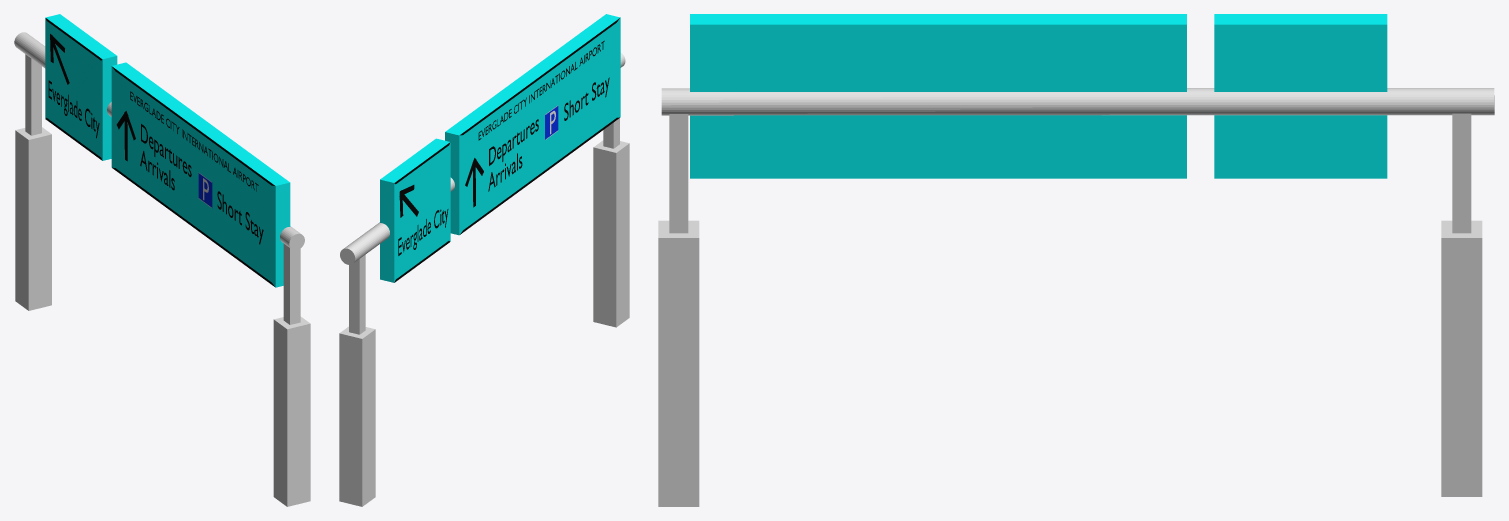
Rendered from ECIA_sign_7.fbx.
The picture shows the model from 3 angles, left to right: view 1: azimuth 30°, elevation 25°; view 2: azimuth 150°, elevation 25°; view 3: azimuth 270°, elevation 25°; orthographic projection. The views are drawn at different scales.
Visible parts, largest first — view 1: Cube.001, Cube.002, Cube, Cube.004, Cylinder, Text.001, Text, Text.006, Text.003, Cube.003; view 2: Cube.001, Cube, Cube.004, Cube.002, Cylinder, Text.001, Text, Text.006, Text.003; view 3: Cube.001, Cube.004, Cylinder, Cube.002, Cube.
Boxes of the visible parts, box(x1,y1,x2,y2) form: Cube.001: box(111, 62, 290, 287); Cube.002: box(273, 243, 310, 506); Cube: box(15, 54, 51, 310); Cube.004: box(45, 14, 117, 160); Cylinder: box(14, 32, 304, 250); Text.001: box(140, 124, 191, 190); Text: box(130, 91, 258, 191); Text.006: box(48, 80, 99, 138); Text.003: box(217, 191, 263, 244); Cube.003: box(198, 172, 212, 207); Cube.001: box(445, 14, 620, 235); Cube: box(339, 255, 375, 506); Cube.004: box(380, 138, 450, 282); Cube.002: box(593, 118, 629, 327); Cylinder: box(340, 52, 625, 264); Text.001: box(488, 119, 538, 191); Text: box(478, 40, 604, 140); Text.006: box(398, 209, 448, 255); Text.003: box(564, 77, 609, 120); Cube.001: box(690, 14, 1186, 178); Cube.004: box(1214, 14, 1387, 178); Cylinder: box(661, 88, 1494, 115); Cube.002: box(658, 114, 699, 506); Cube: box(1441, 113, 1482, 496).
Size of the model in its own units: 6.43 by 76.97 by 123.
